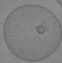small: (39, 22, 49, 35)
